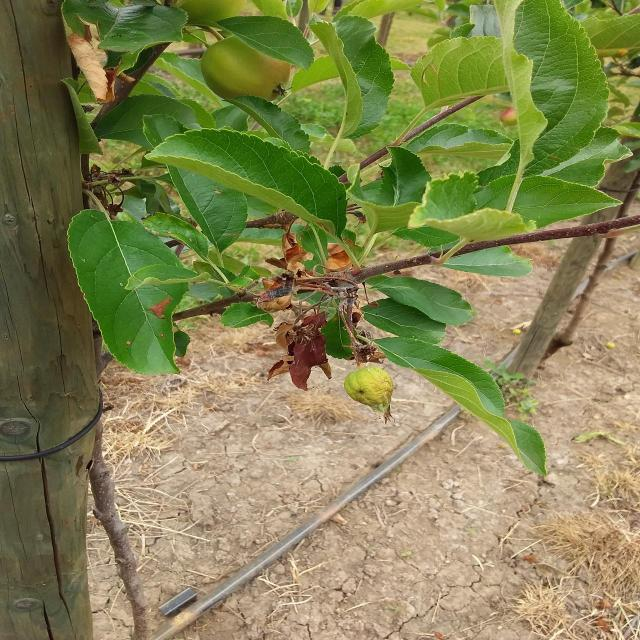-FireBlight-: (260, 260, 335, 386)
